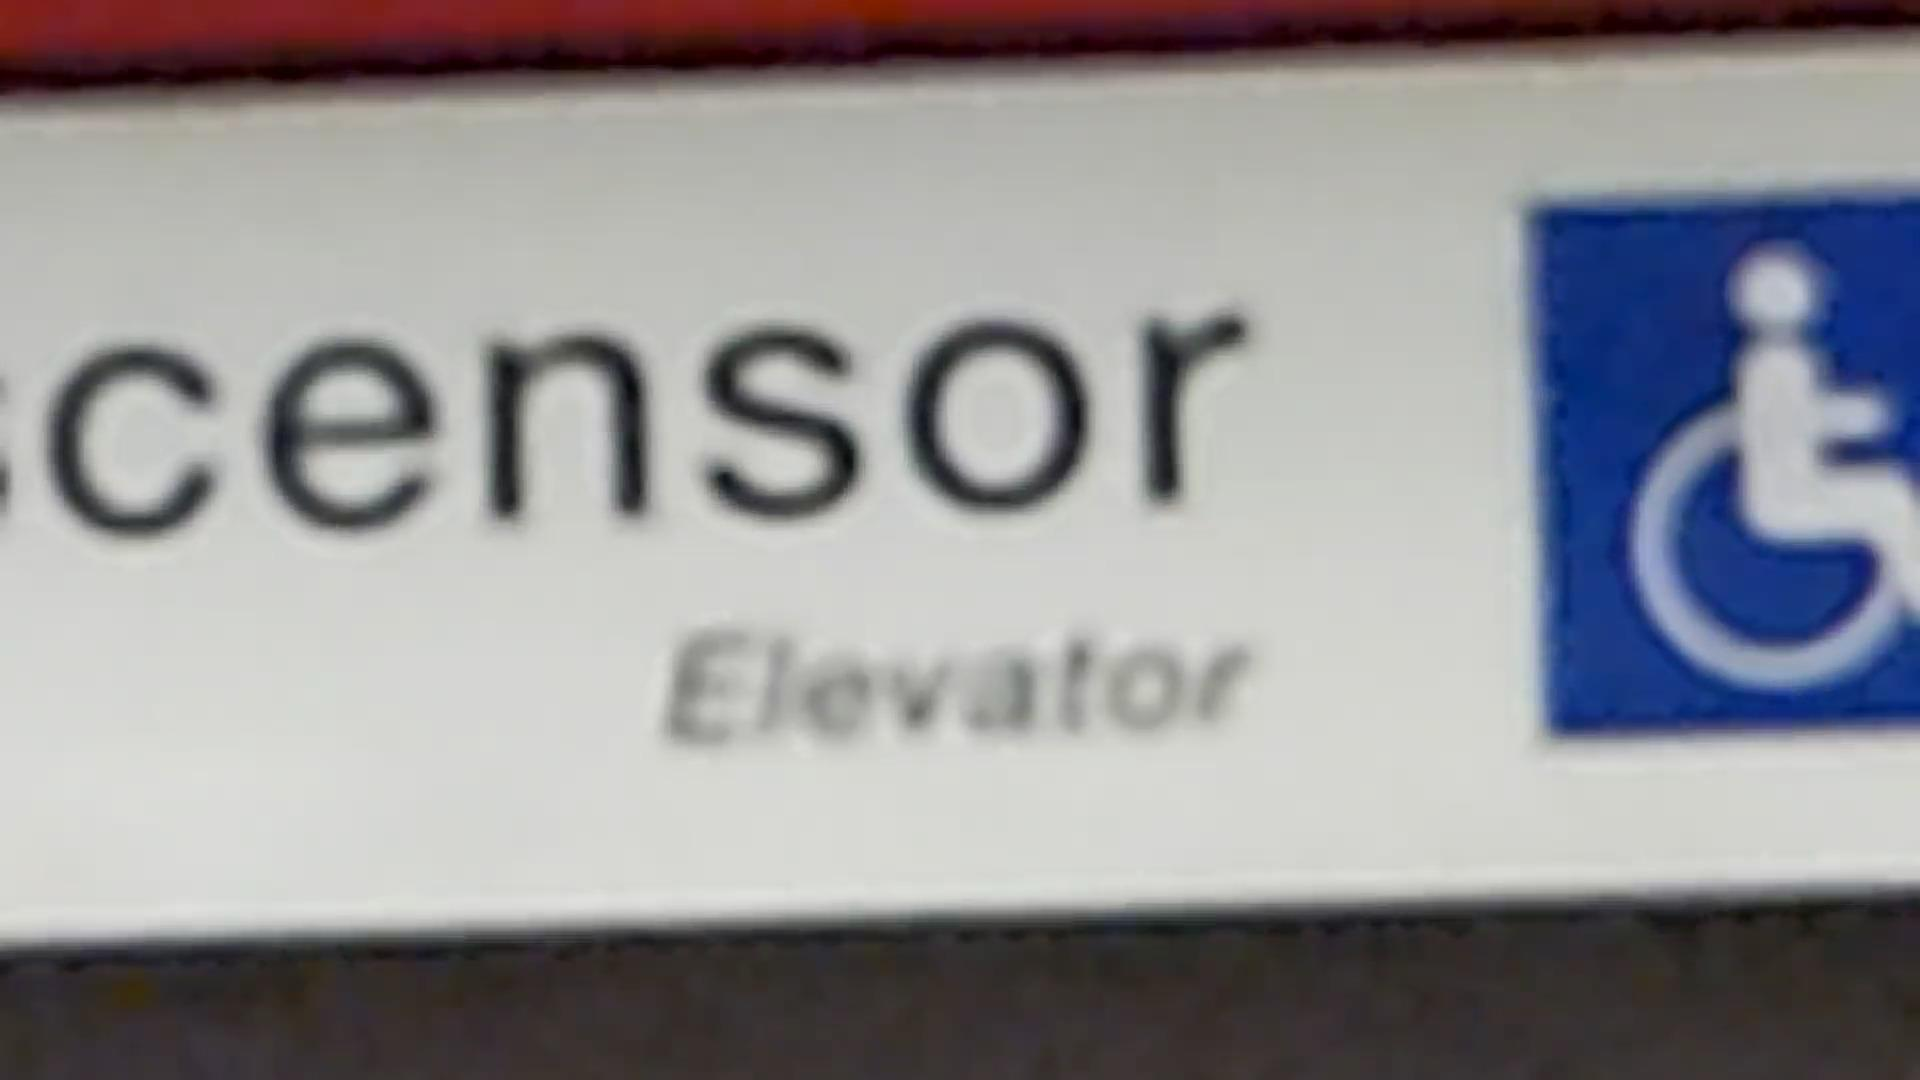handicapped symbol: (1622, 248, 1920, 699)
